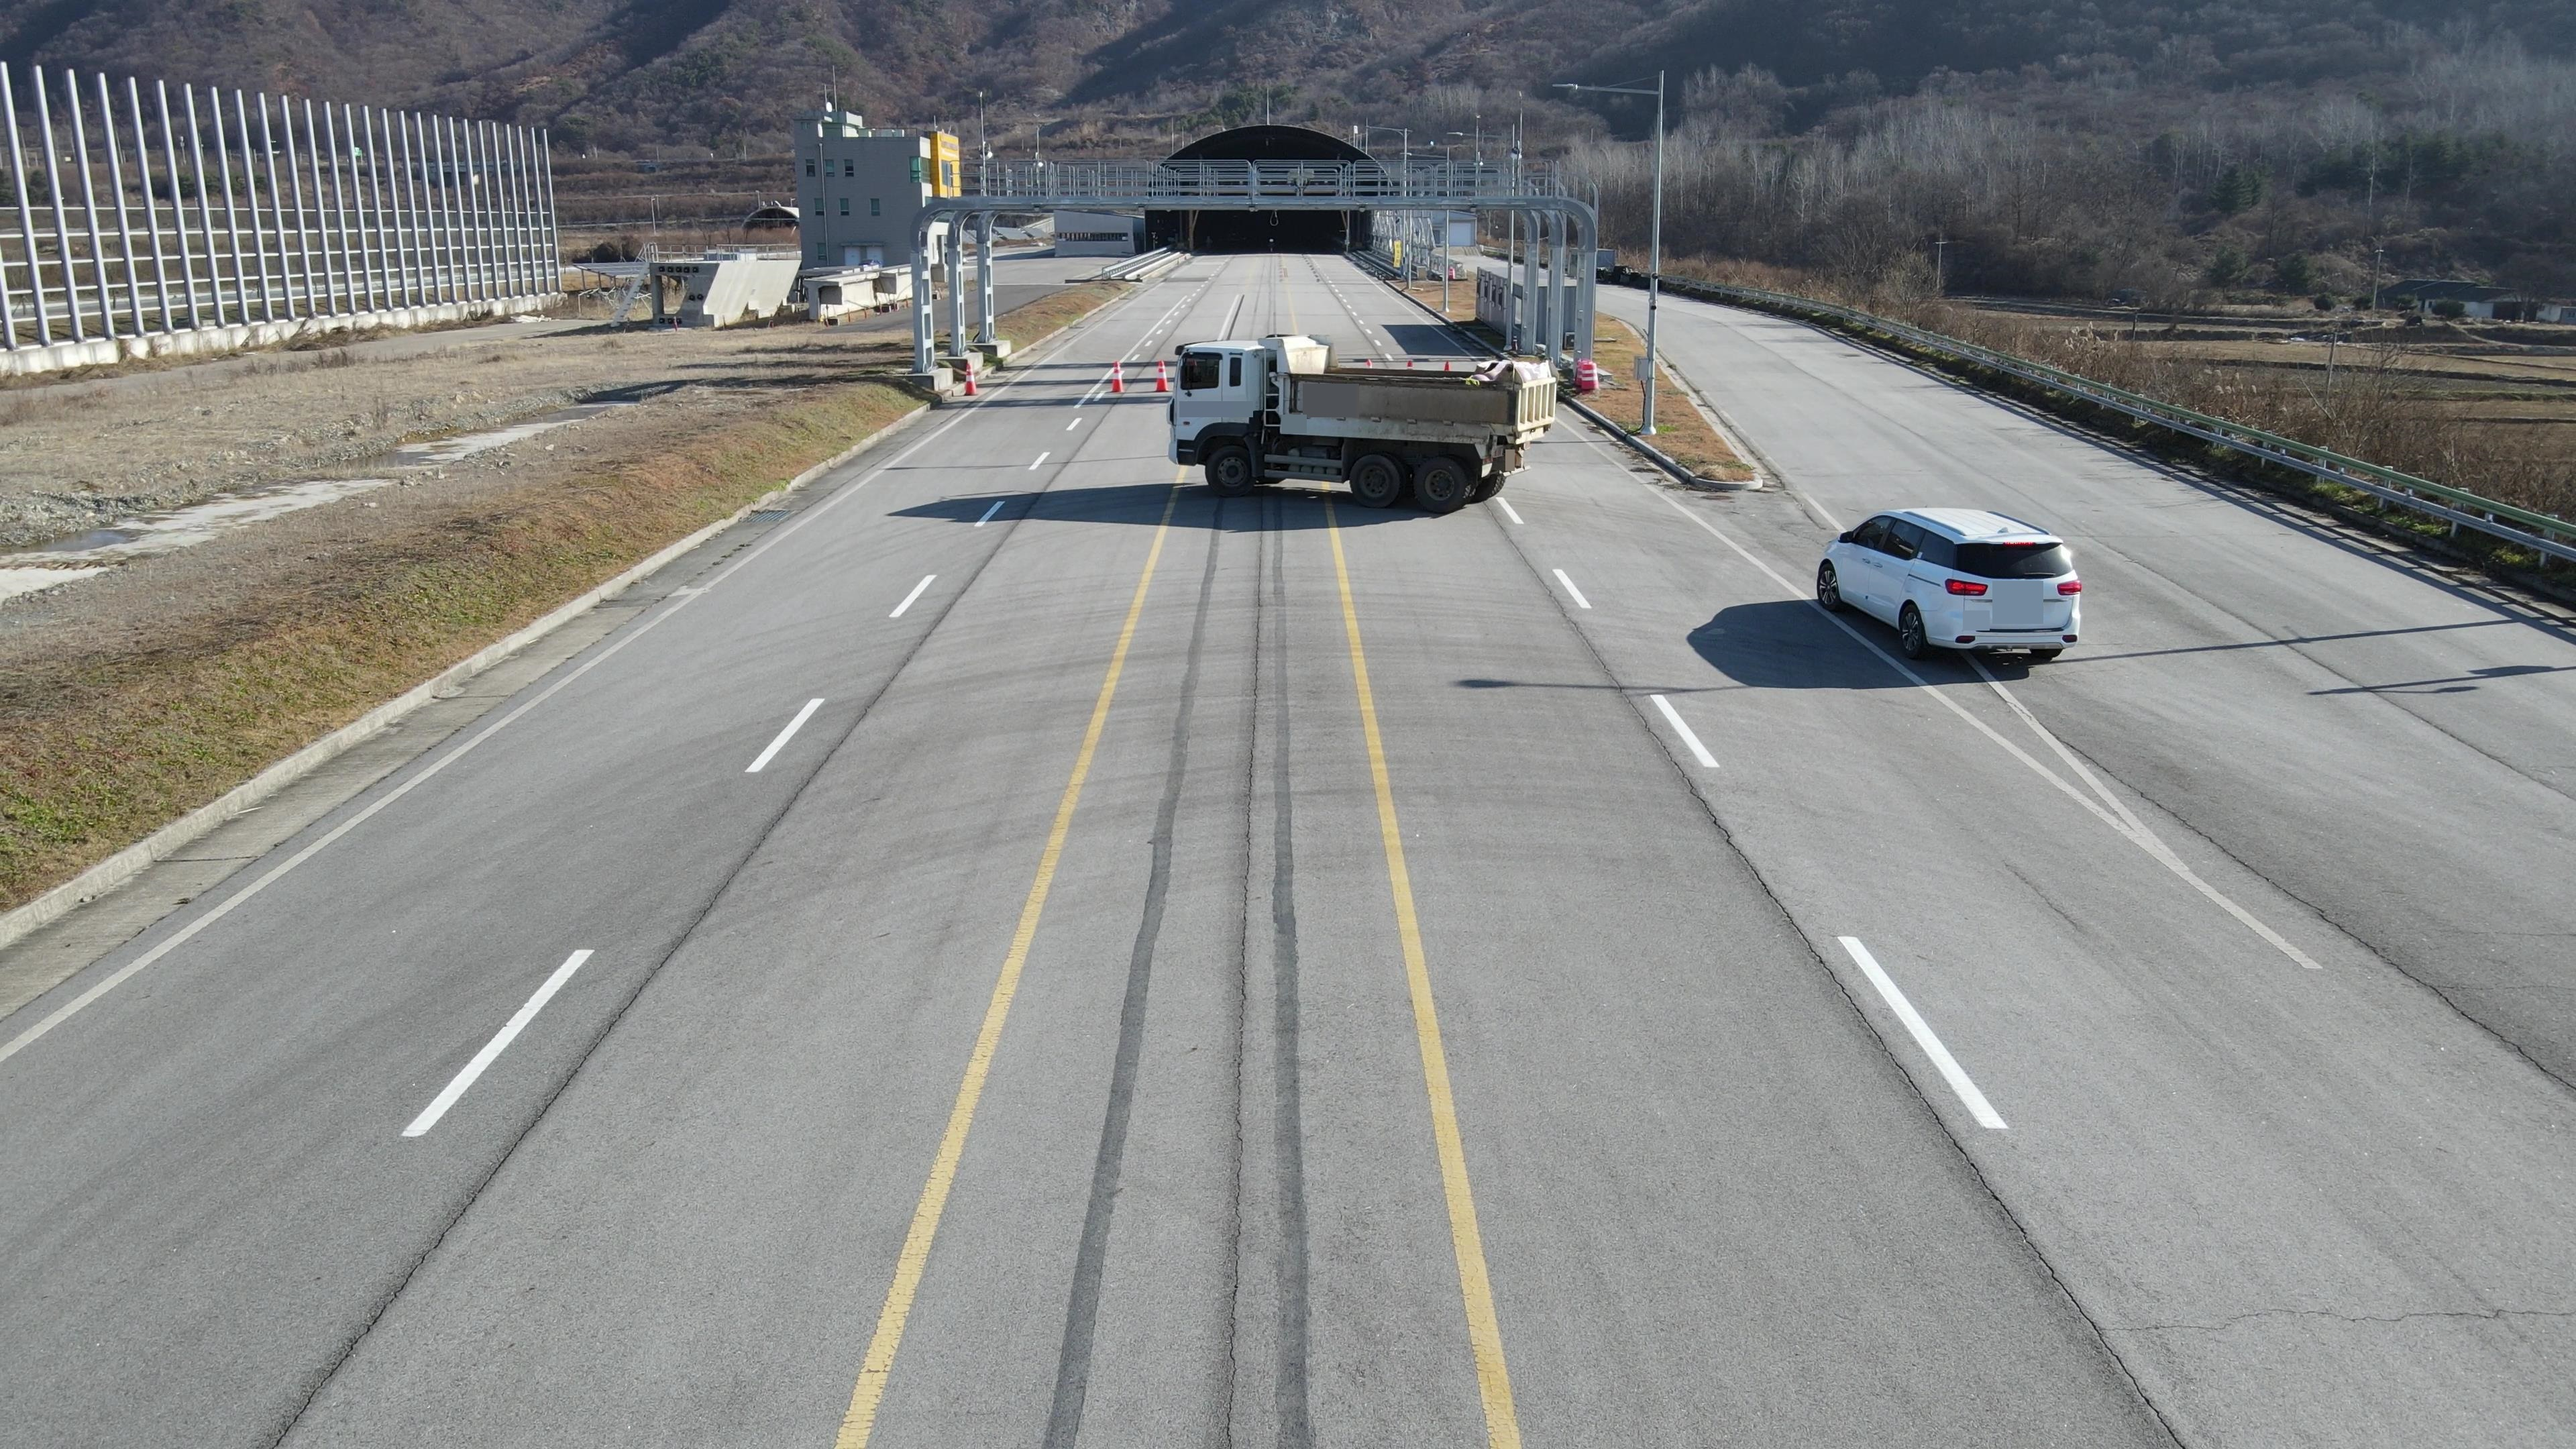불법차량: (1165, 333, 1557, 513)
